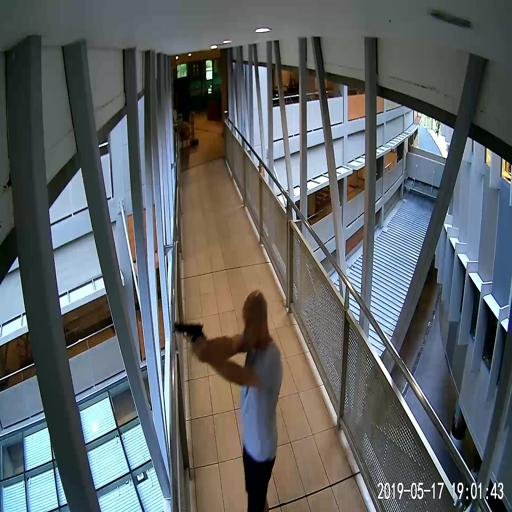pistol: (173, 320, 203, 355)
